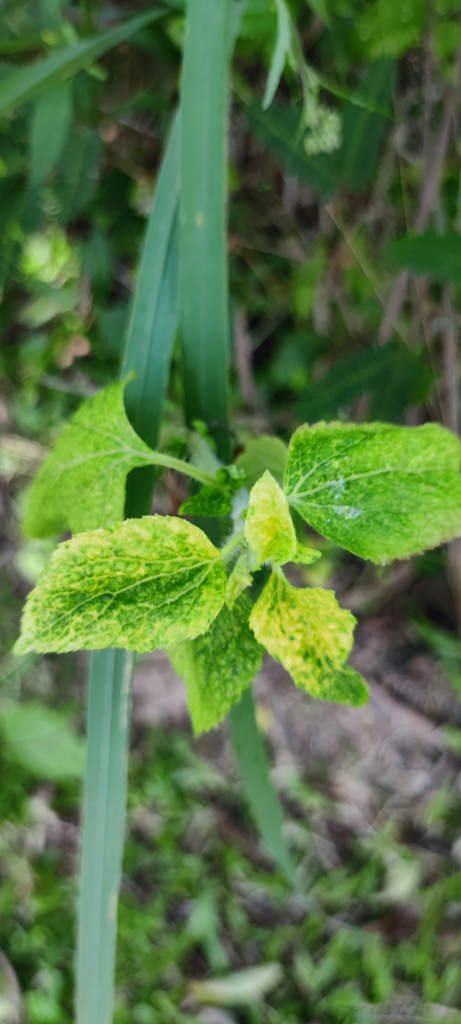Pepper yellow leaf: (9, 515, 223, 667), (259, 579, 368, 702), (233, 479, 308, 560)
